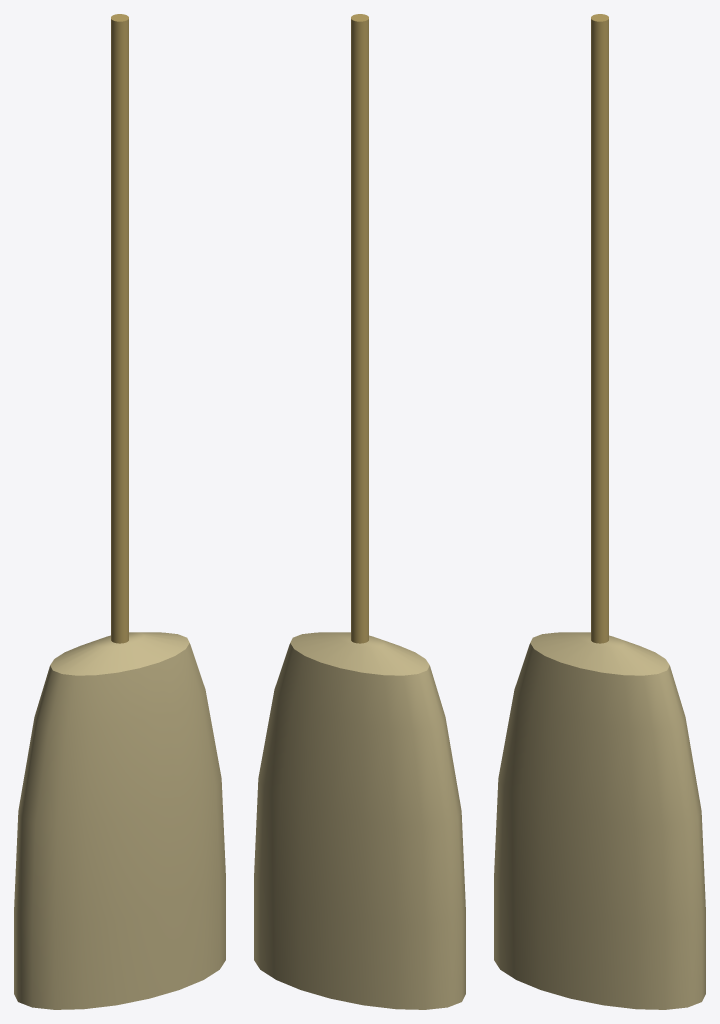
File: ITM_Broom.fbx
The picture shows the model from 3 angles, left to right: view 1: azimuth 30°, elevation 25°; view 2: azimuth 150°, elevation 25°; view 3: azimuth 330°, elevation 25°; orthographic projection.
Parts seen in each view (by area): view 1: bristles, handle; view 2: bristles, handle; view 3: bristles, handle.
Part boxes in pixels (box(x1,y1,x2,y2)): bristles: box(14, 632, 225, 1009); handle: box(111, 14, 128, 643); bristles: box(254, 632, 465, 1009); handle: box(351, 14, 368, 643); bristles: box(494, 632, 705, 1009); handle: box(591, 14, 608, 643).
Size of the model in its own units: 12 by 54 by 6.
